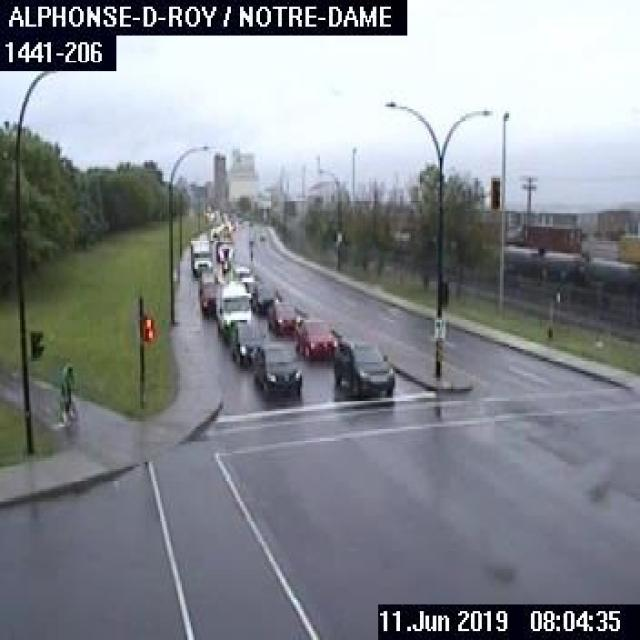pedestrian: (58, 360, 76, 425)
vehicle: (332, 330, 394, 396), (252, 339, 300, 397), (214, 281, 253, 336), (291, 314, 338, 357), (226, 319, 265, 364), (266, 298, 300, 336), (250, 280, 281, 316), (187, 234, 213, 276), (197, 277, 220, 316)
